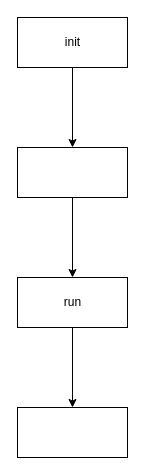
Some shapes in this 145 by 475 pixel diagram are drawn without their labels. Each missing label, with the box of its shape:
loos: (16, 406, 128, 458)
wait: (16, 146, 128, 198)
